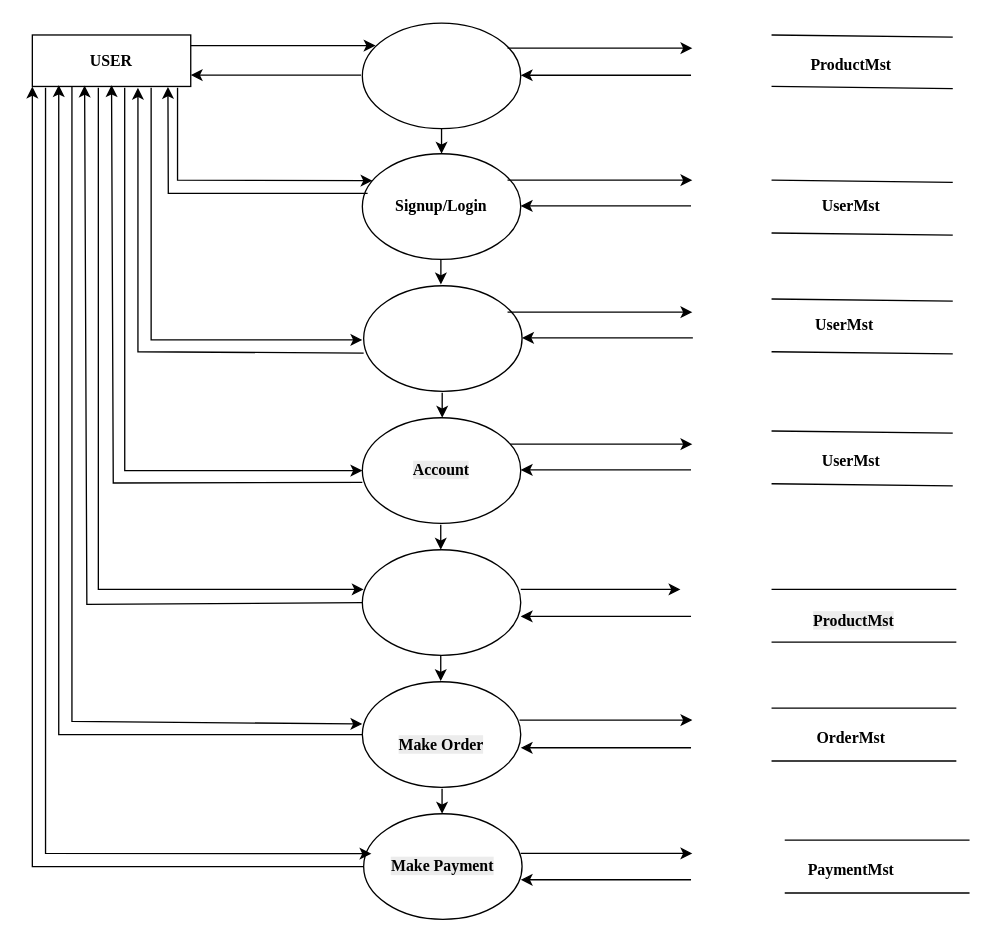
Some shapes in this 994 by 942 pixel diagram are drawn without their labels. Here are the shapes that lost their labels. From the top down, the centre of each, then its label:
point 441,75: Search Product
point 442,337: Login
point 441,601: Buy Product
